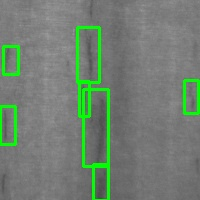inclusion: (83, 89, 108, 166), (77, 27, 99, 82), (93, 164, 108, 200), (1, 106, 15, 144), (184, 80, 198, 113), (3, 46, 18, 74), (79, 81, 89, 116)
